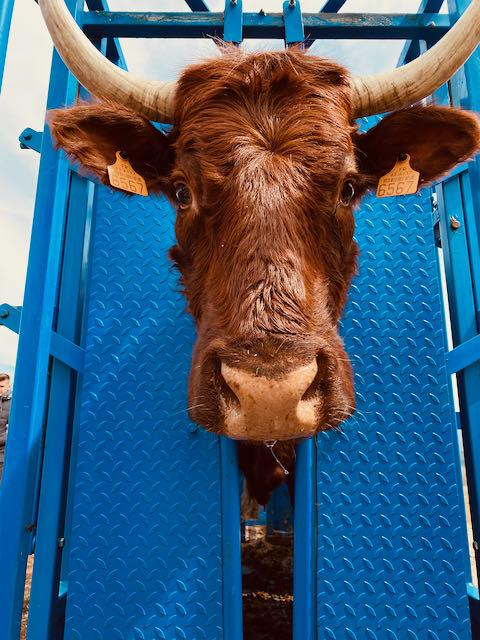muzzles: (179, 353, 357, 448)
